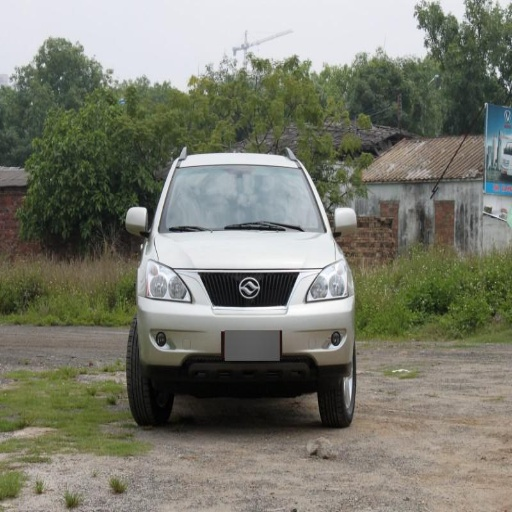back_right_light: (139, 267, 353, 373)
front_bumper: (160, 166, 325, 232)
front_left_door: (304, 260, 352, 303)
front_right_door: (141, 260, 193, 301)
front_right_light: (153, 232, 337, 268)
hood: (332, 207, 358, 234)
left_mirror: (125, 206, 149, 236)
trunk: (129, 343, 173, 425), (318, 372, 356, 427)
